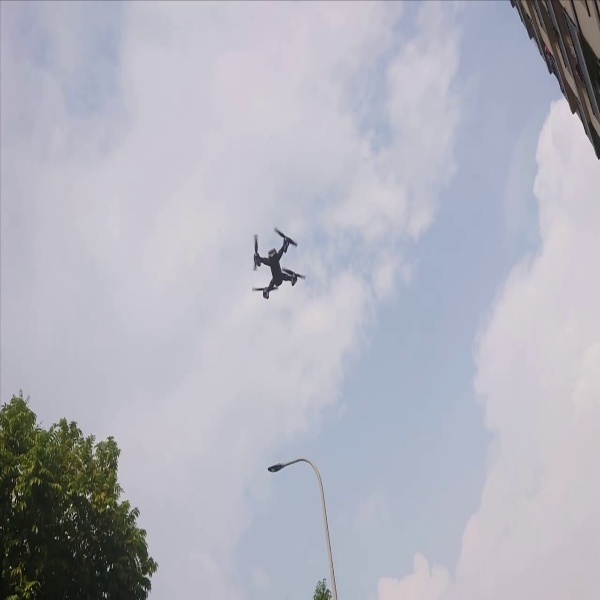drone: (238, 223, 311, 308)
